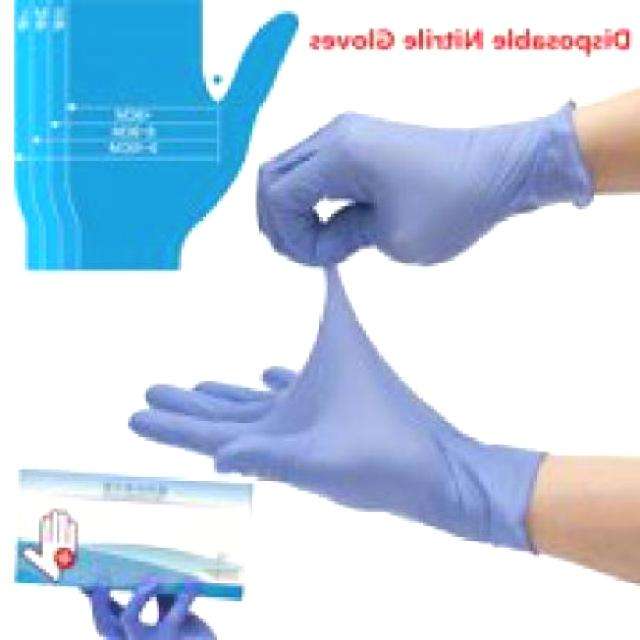glove: (115, 285, 583, 560), (232, 54, 598, 281)
